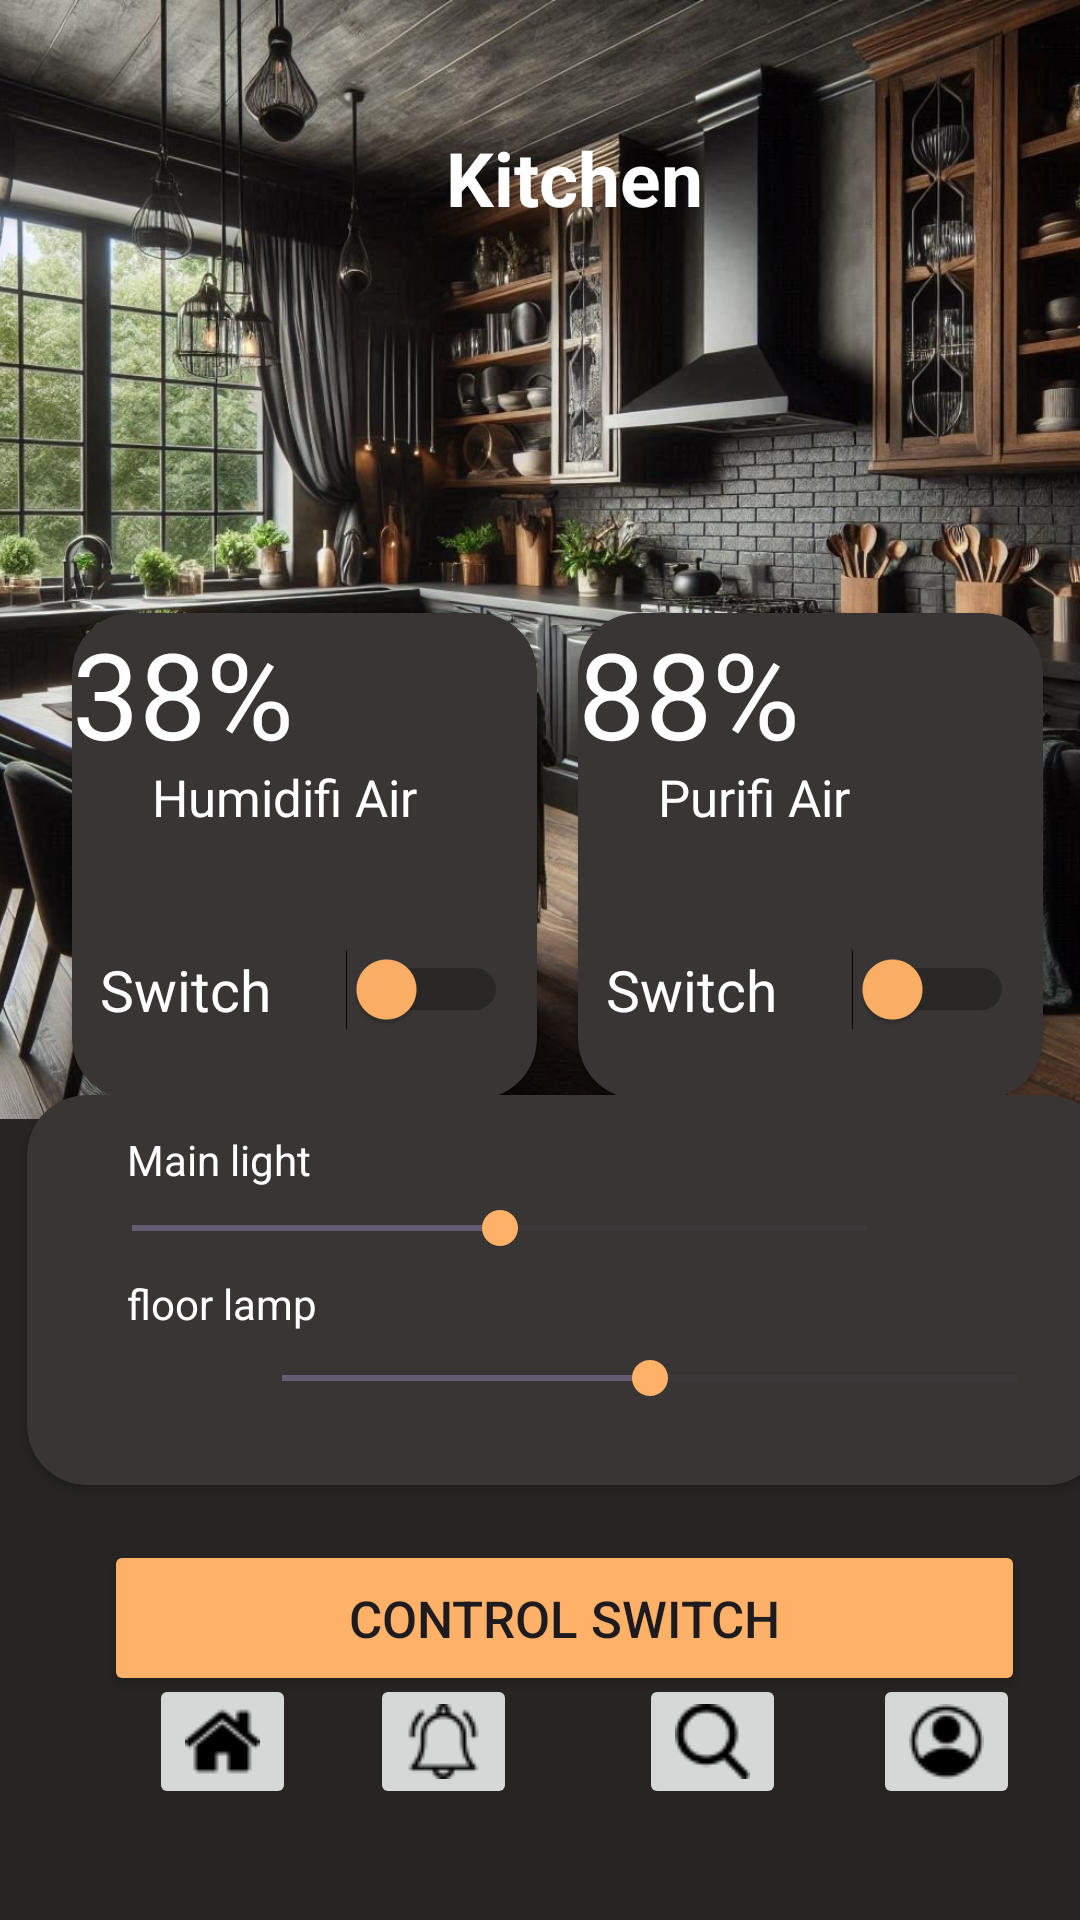

Named icons in this screenshot (1080 × 1920) and their centers, point (x, y):
account: point (946, 1741)
homenew: point (222, 1741)
notification: point (443, 1741)
search: point (712, 1741)
